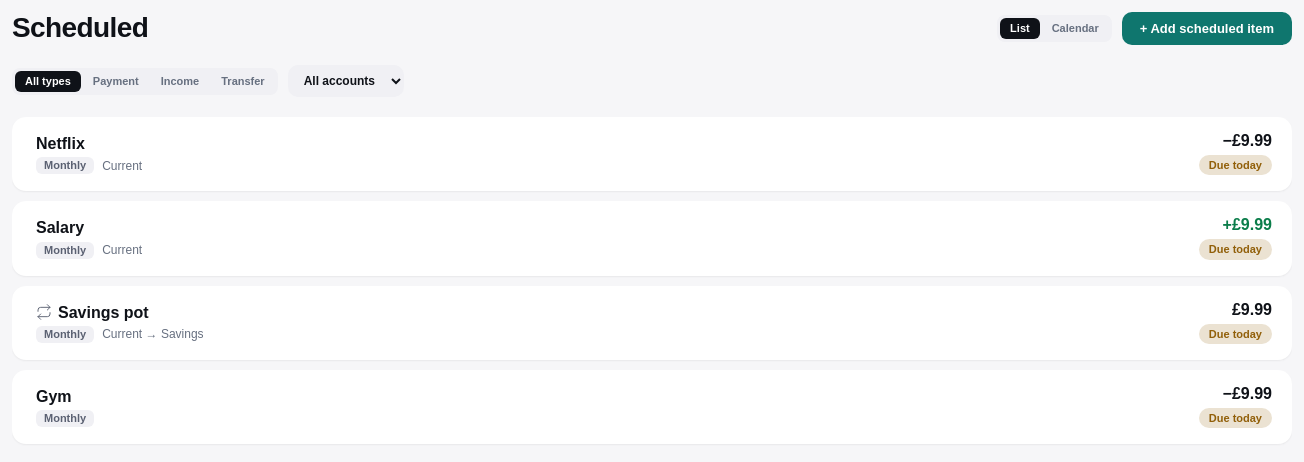
Test: Scheduled screen filters › narrows the list to one type and records it in the URL
Click the radio button labelled "Income". click: click(180, 81)
box: top-left (151, 70), bottom-right (209, 92)
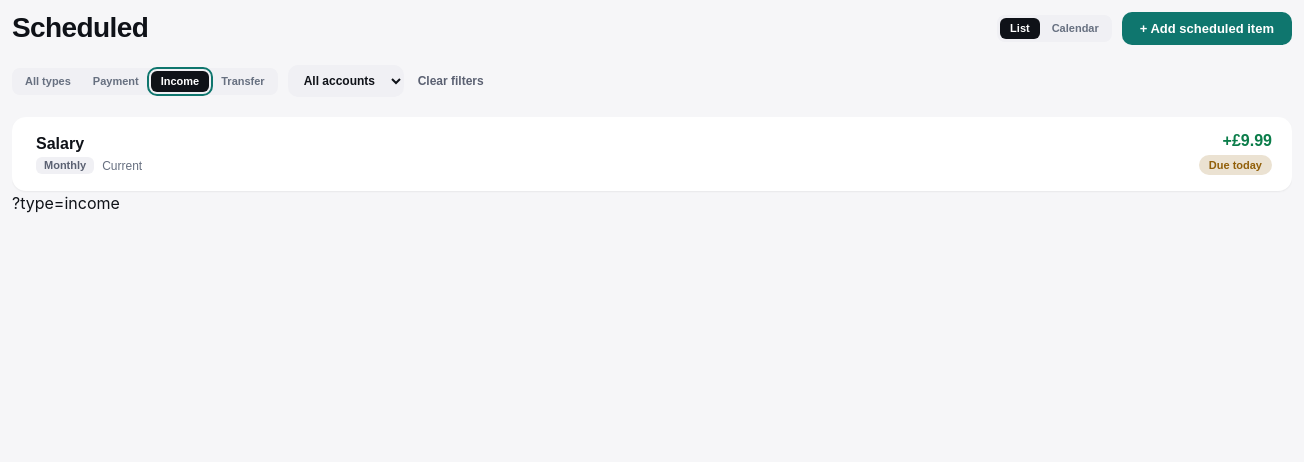
Result: the text with test id "location" reads "?type=income" at top-left (12, 193), bottom-right (120, 213)
